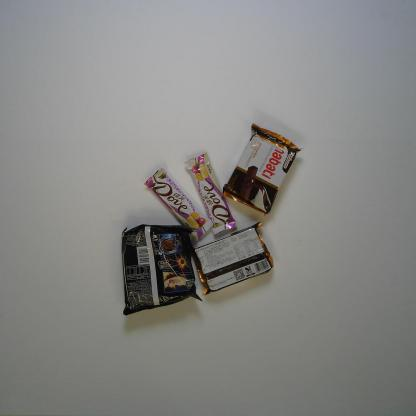Chocolate: (143, 167, 215, 242), (183, 151, 239, 236)
Dessert: (222, 122, 305, 217), (190, 220, 274, 296)
Instant Noodles: (120, 223, 203, 317)
